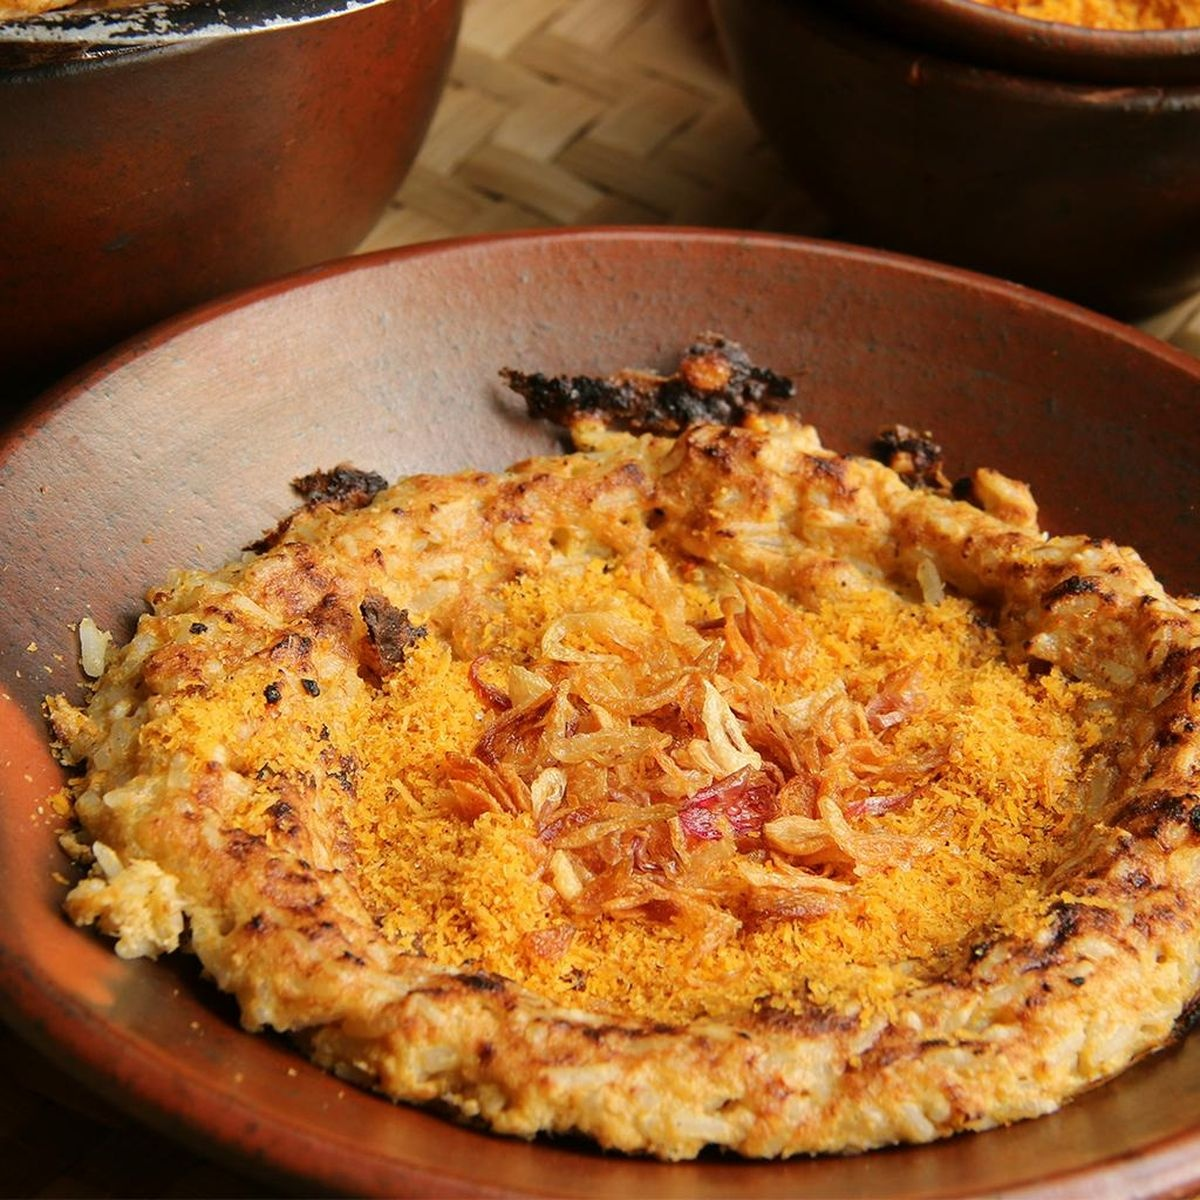kerak_telor: (63, 423, 1197, 1160)
